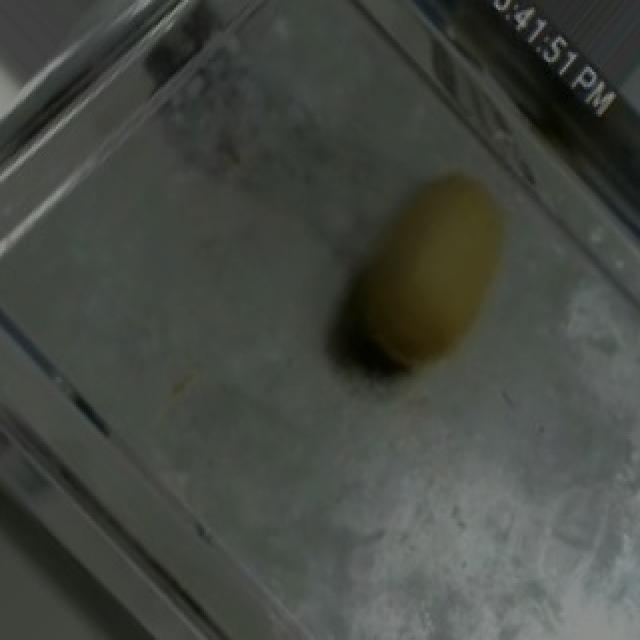Fruit: (294, 136, 550, 410)
